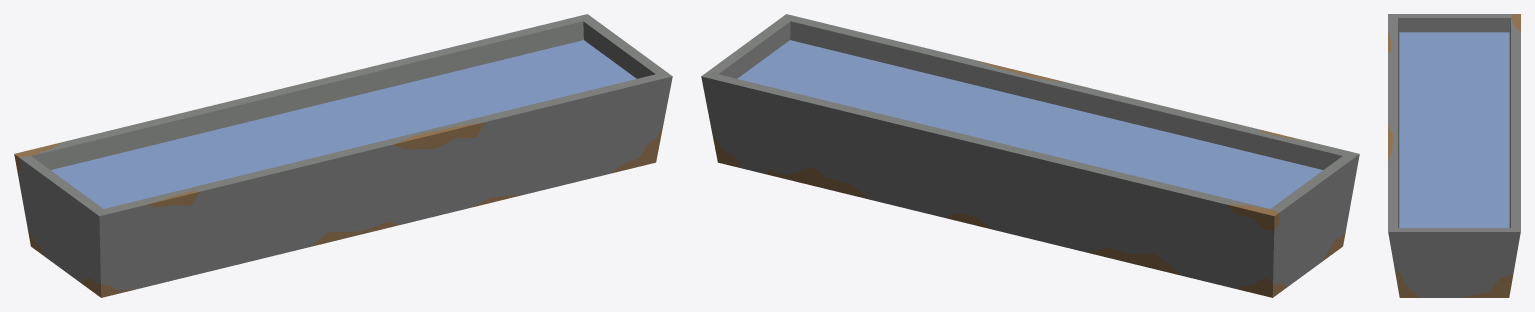
File: Mesh_Props_Water_01.obj
3 views of the same model, side by side, from view 1: azimuth 30°, elevation 25°; view 2: azimuth 150°, elevation 25°; view 3: azimuth 270°, elevation 25° (orthographic). The views are drawn at different scales.
Visible parts, largest first — view 1: Mesh_Props_Water_01_M_LowPolyFarm_MAIN; view 2: Mesh_Props_Water_01_M_LowPolyFarm_MAIN; view 3: Mesh_Props_Water_01_M_LowPolyFarm_MAIN.
Part boxes in pixels (bbox=[...]): Mesh_Props_Water_01_M_LowPolyFarm_MAIN: bbox=[14, 14, 672, 297]; Mesh_Props_Water_01_M_LowPolyFarm_MAIN: bbox=[701, 14, 1359, 297]; Mesh_Props_Water_01_M_LowPolyFarm_MAIN: bbox=[1388, 14, 1520, 297].
Bounding box in the file's own units: 1.76 × 0.2623 × 0.4531.
1 material, 1 textured.
